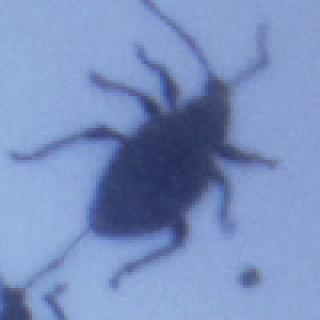bvw: (6, 0, 281, 291)
